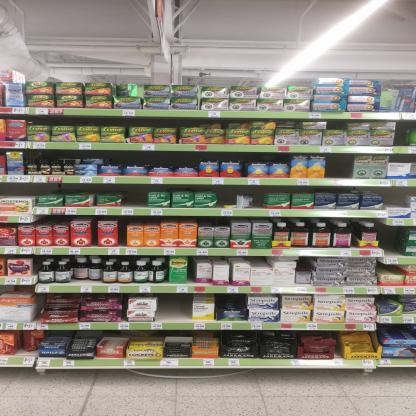Void: (4, 185, 115, 194), (110, 153, 190, 165), (162, 296, 192, 320), (123, 184, 152, 207), (382, 227, 403, 254), (328, 154, 352, 175), (217, 185, 234, 209), (37, 215, 71, 225), (386, 189, 406, 203), (377, 265, 404, 273), (253, 257, 269, 267), (298, 256, 310, 269)
